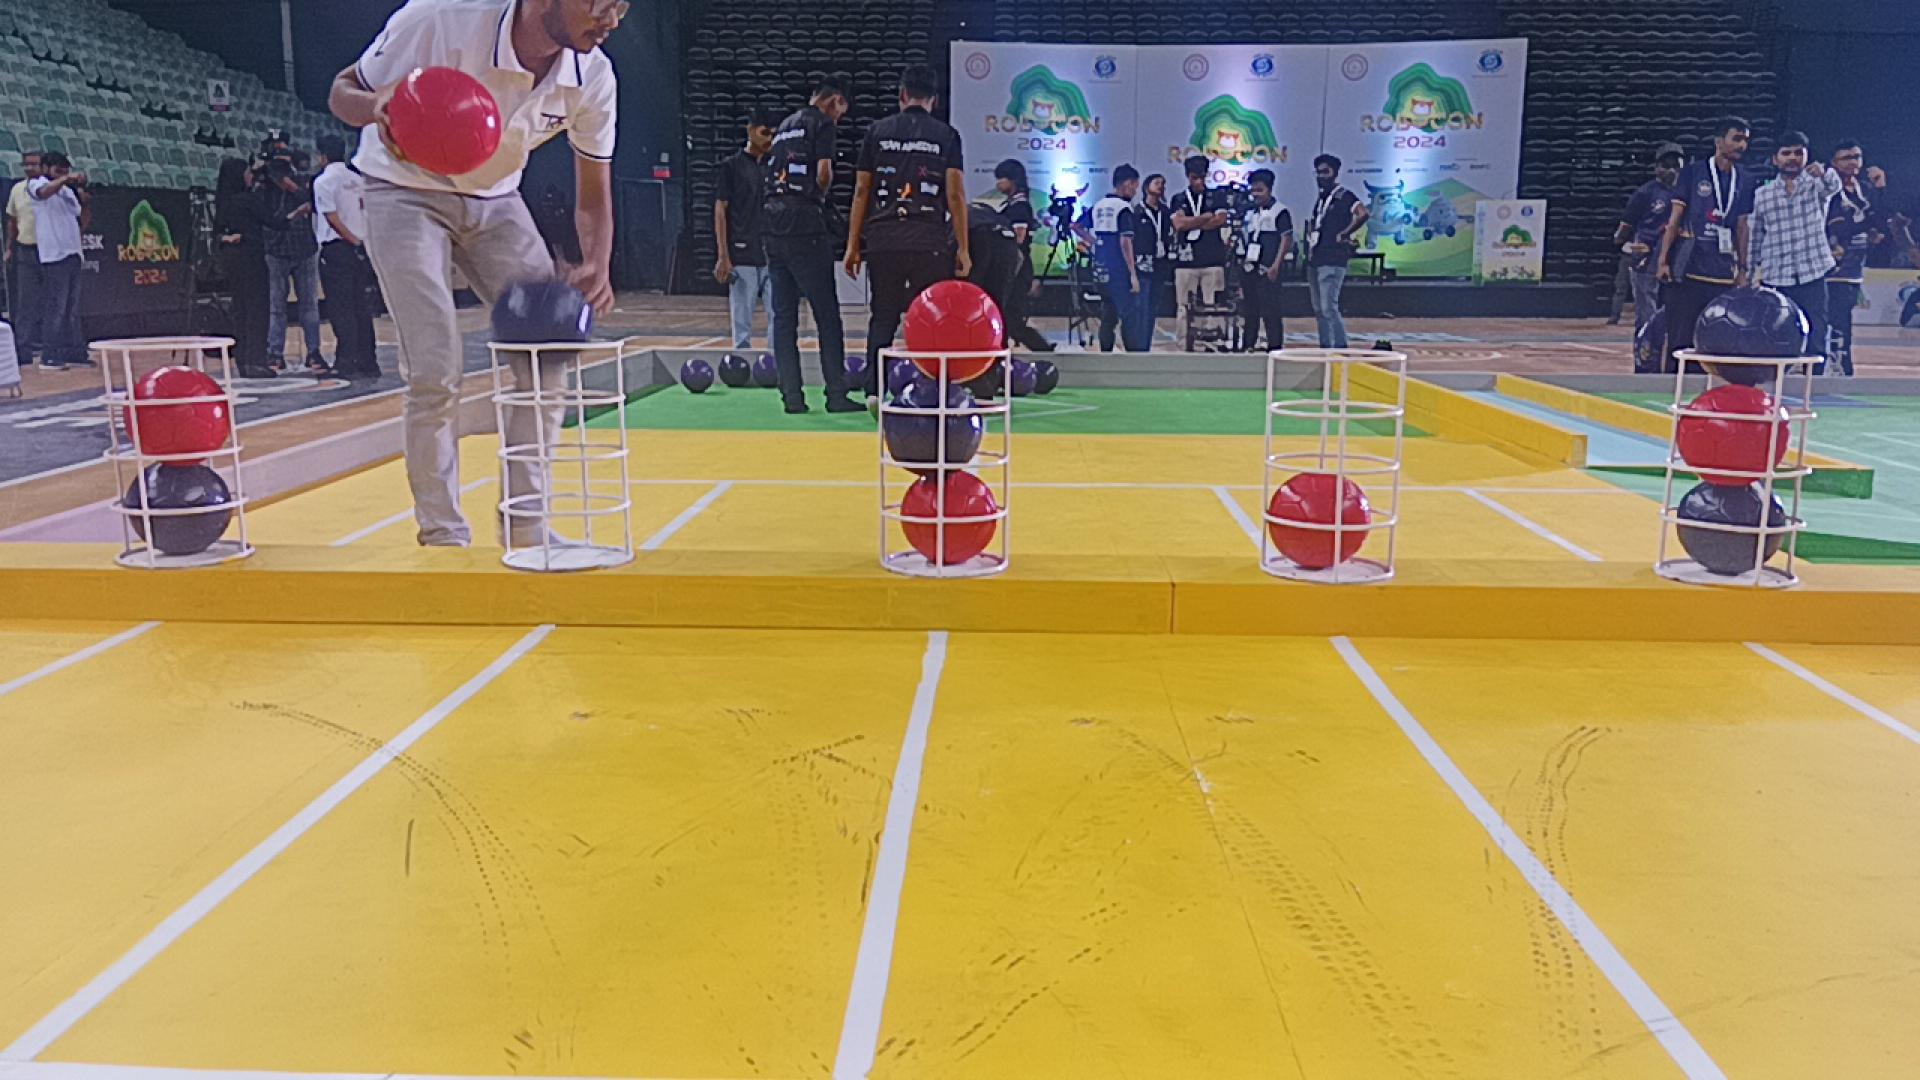dhoka: (1695, 285, 1808, 386), (1676, 480, 1788, 578), (881, 375, 982, 472), (124, 465, 228, 555), (492, 281, 592, 345)
laale: (903, 277, 1005, 382), (120, 364, 232, 456), (1267, 472, 1373, 570), (899, 468, 1001, 564)
